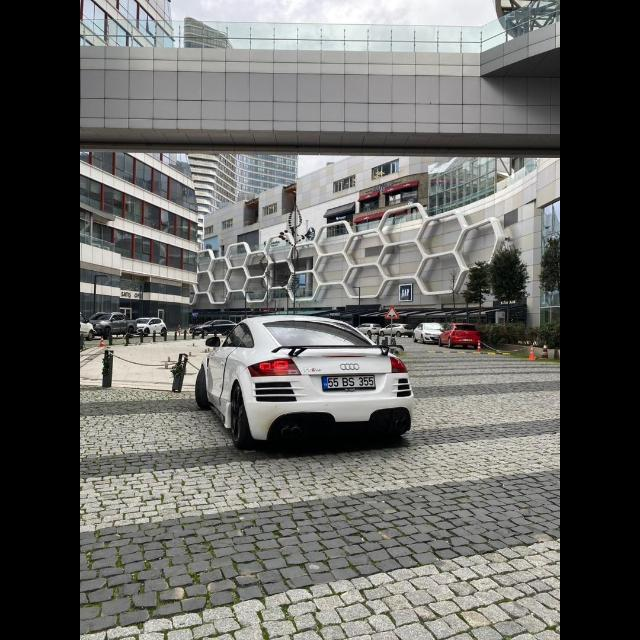Plaka: (324, 375, 374, 389)
